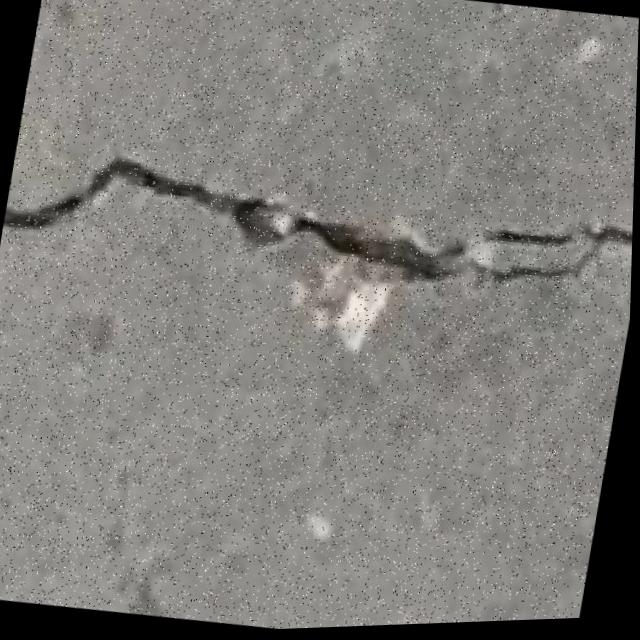Crack: (0, 106, 637, 374)
